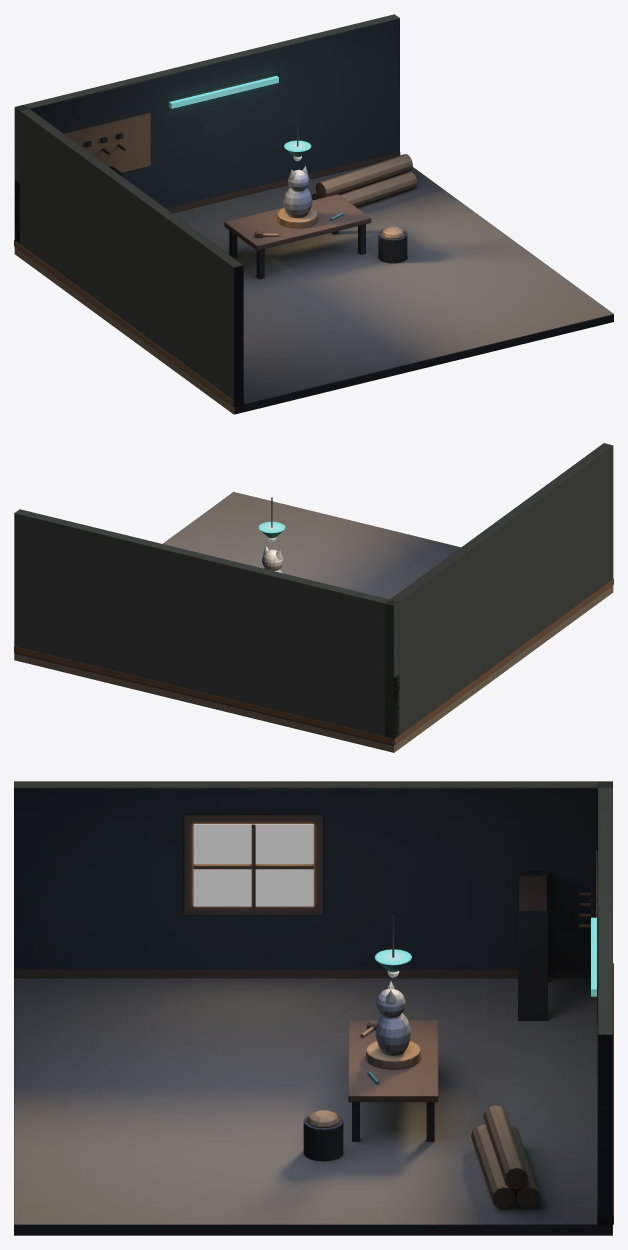
File: studio.glb
3 renders of one model, top to bottom at view 1: azimuth 30°, elevation 25°; view 2: azimuth 150°, elevation 25°; view 3: azimuth 270°, elevation 25°, orthographic. The views are drawn at different scales.
Parts seen in each view (by area): view 1: studio; view 2: studio; view 3: studio.
Part boxes in pixels (x1=…): studio: x1=14, y1=14, x2=613, y2=414; studio: x1=14, y1=443, x2=613, y2=752; studio: x1=14, y1=781, x2=613, y2=1235.
Size of the model in its own units: 12.02 by 4.44 by 12.02.
1 material, 1 textured.
